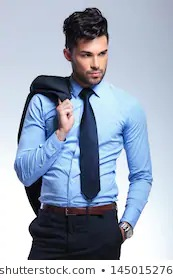F_belt: (39, 202, 117, 213)
F_dress pants: (30, 206, 123, 259)
F_shirt: (17, 73, 154, 221)
F_tie: (71, 89, 101, 202)
